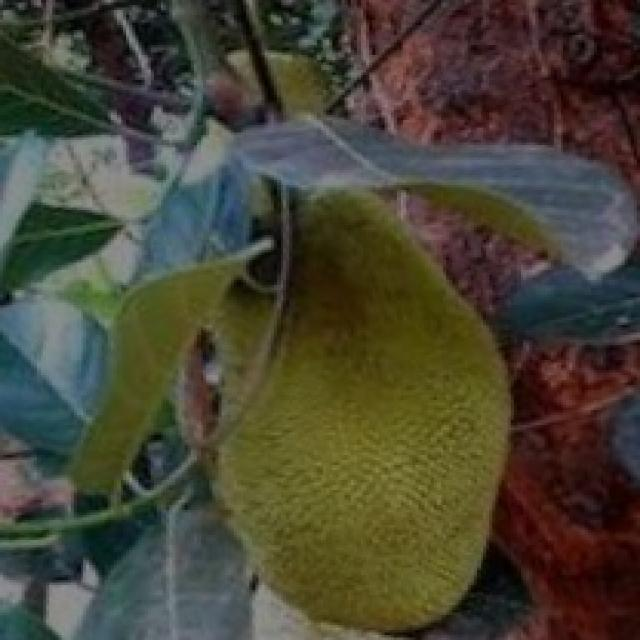Fruit: (179, 165, 566, 637)
